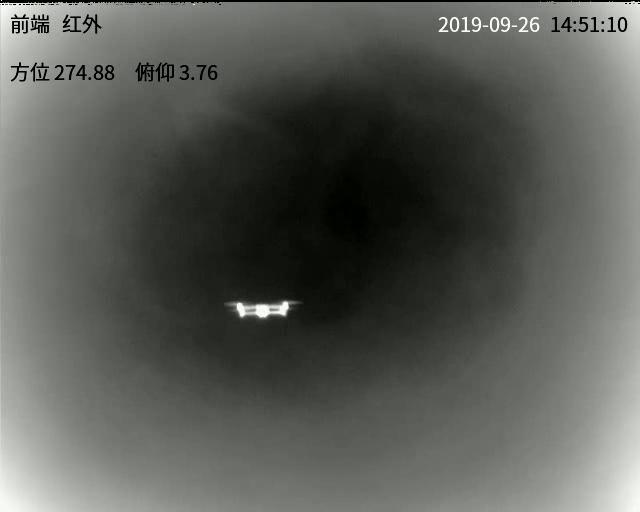DRONE: (229, 299, 296, 318)
